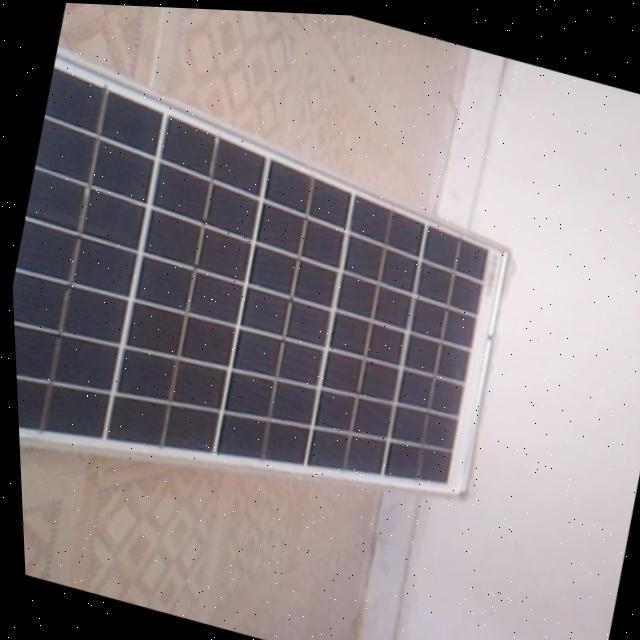Normal Solar Panel: (1, 43, 536, 558)
